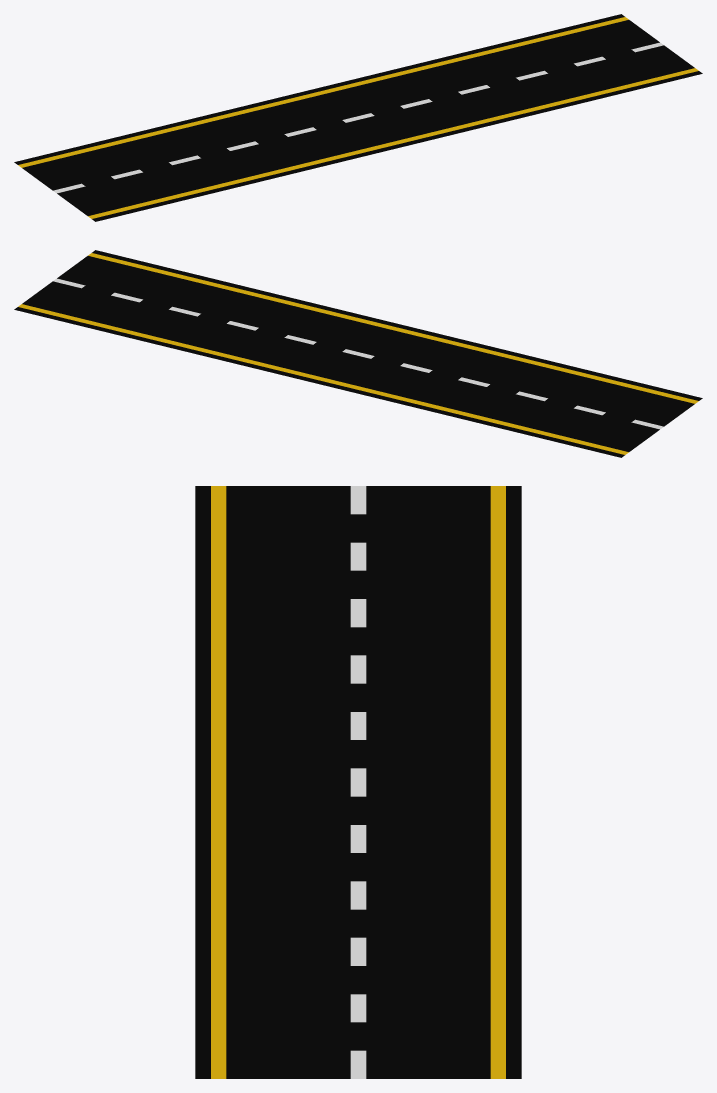
The model's file is road_1.fbx.
3 renders of one model, top to bottom at view 1: azimuth 30°, elevation 25°; view 2: azimuth 150°, elevation 25°; view 3: azimuth 270°, elevation 25°, orthographic. The views are drawn at different scales.
Visible parts, largest first — view 1: Plane; view 2: Plane; view 3: Plane.
Boxes of the visible parts, x1=… form: Plane: x1=14, y1=14, x2=702, y2=221; Plane: x1=14, y1=250, x2=702, y2=457; Plane: x1=195, y1=486, x2=521, y2=1078.
Bounding box in the file's own units: 1216 × 4.61e-05 × 283.
